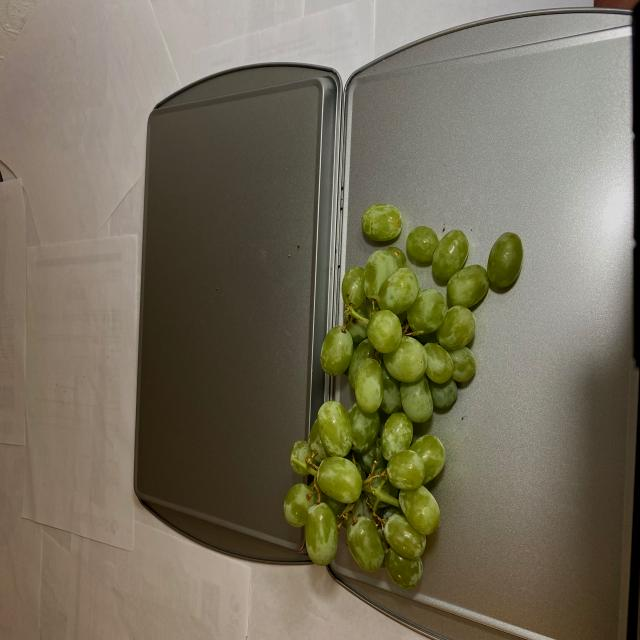grapes: (282, 201, 520, 593)
